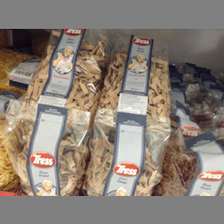pasta: (2, 100, 91, 195), (82, 111, 174, 196), (21, 29, 102, 108), (99, 30, 173, 110)
